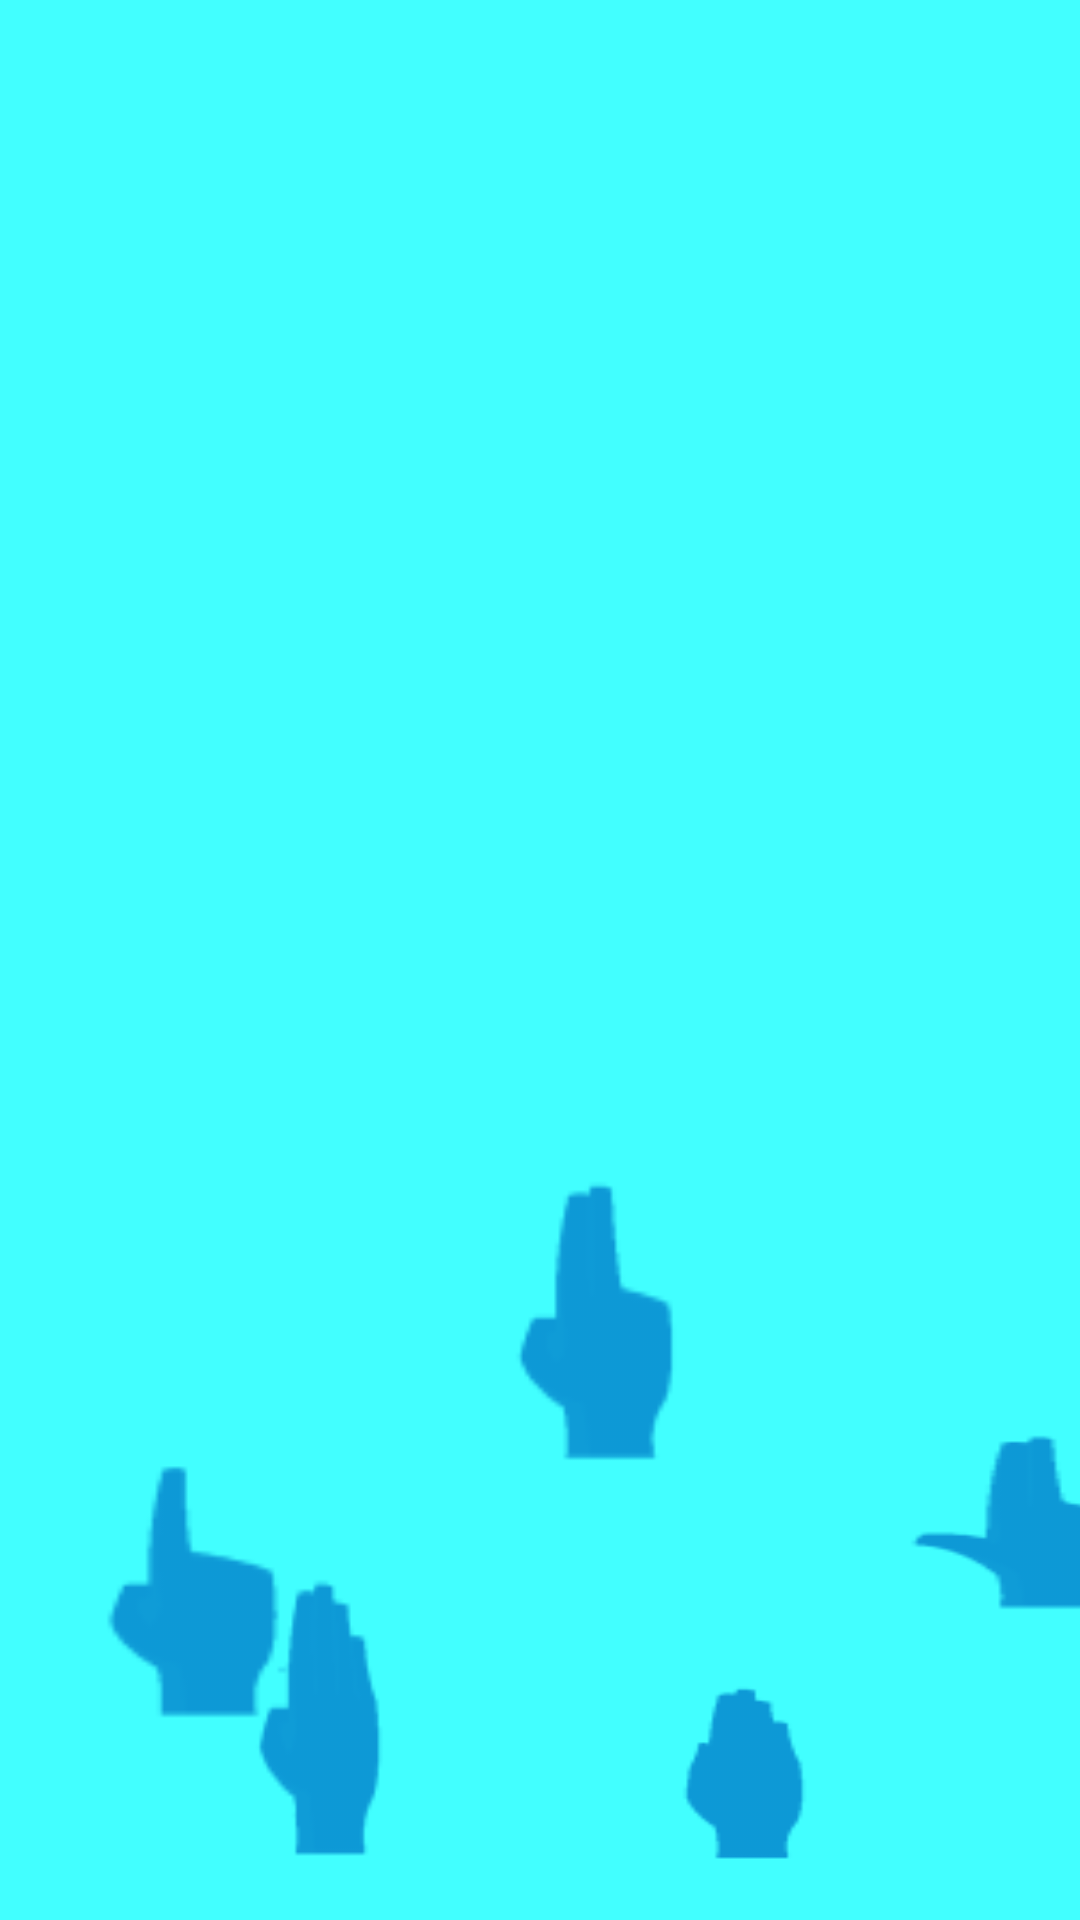

Icons on this 1080px×1920px Android screen, each with the point to tap as point (x, y):
mano due: point (596, 1322)
mano uno: point (197, 1592)
